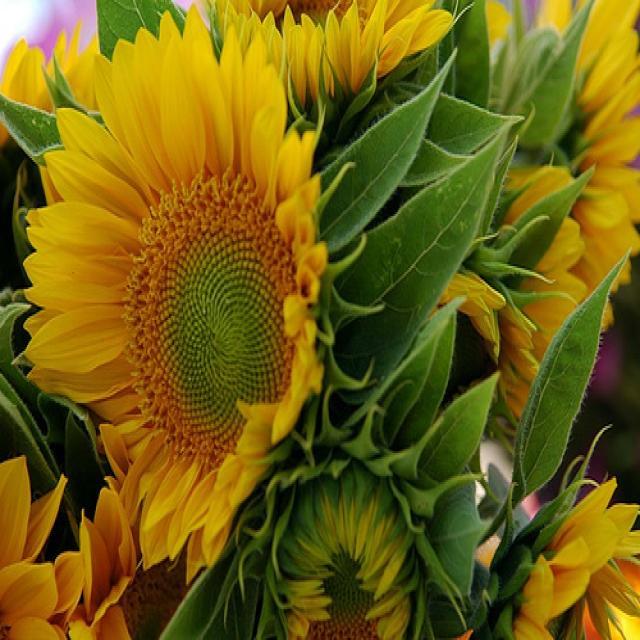sunflower: (18, 12, 347, 588)
